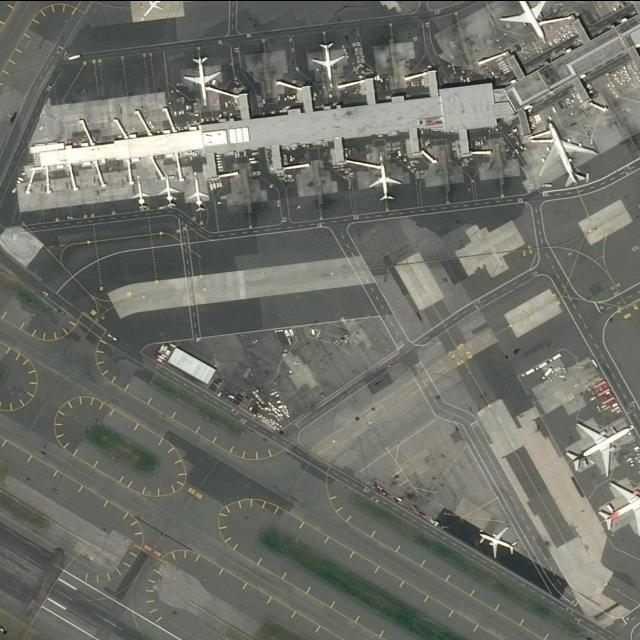Aircraft: (537, 119, 599, 187), (567, 416, 637, 476), (600, 475, 640, 535), (500, 0, 556, 39), (183, 53, 222, 101), (480, 521, 522, 558), (314, 39, 350, 81), (368, 159, 403, 201), (188, 176, 211, 210), (158, 173, 180, 205), (131, 177, 149, 209), (140, 0, 170, 19)
